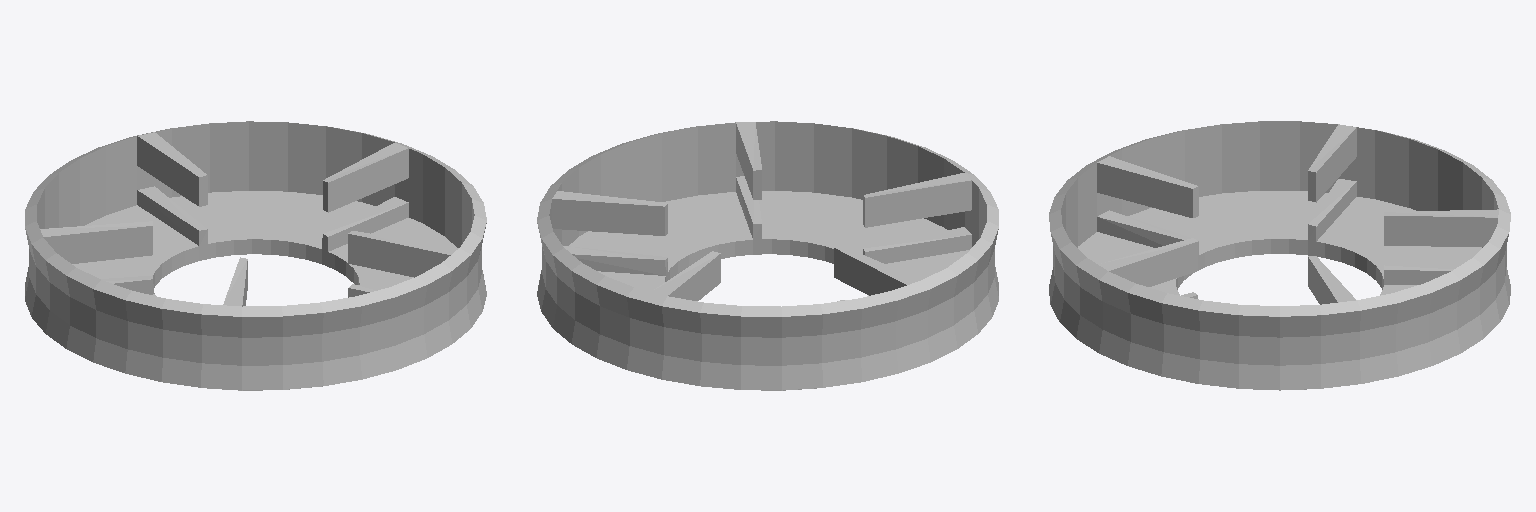
File: SpaceStation5.obj
3 renders of one model, left to right at view 1: azimuth 30°, elevation 25°; view 2: azimuth 150°, elevation 25°; view 3: azimuth 270°, elevation 25°, orthographic.
Visible parts, largest first — view 1: SpaceStation2:pTorus1; view 2: SpaceStation2:pTorus1; view 3: SpaceStation2:pTorus1.
Part boxes in pixels (x1,y1,x2,y2): SpaceStation2:pTorus1: (25,121,486,390); SpaceStation2:pTorus1: (537,121,998,390); SpaceStation2:pTorus1: (1049,121,1510,390).
Bounding box in the file's own units: 39.52 × 7.95 × 39.56.